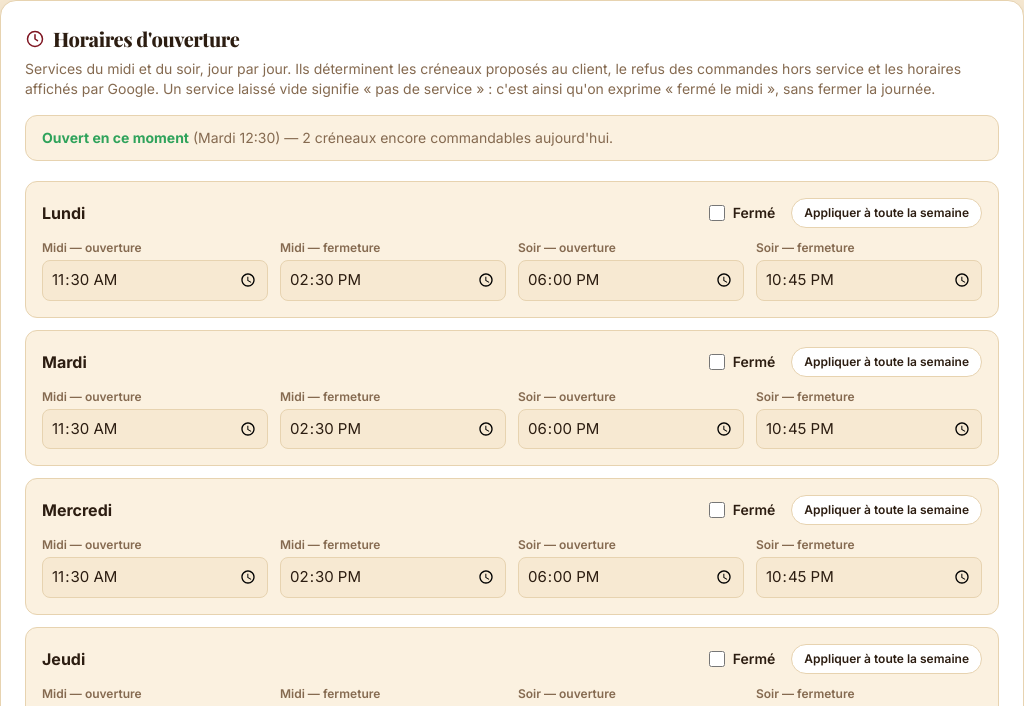
Test: une fermeture placée avant son ouverture › refuse aussi deux heures identiques — un service de durée nulle
Expected: the text "Lundi" is shown, [42, 201, 85, 225]
Replace the text in the 3rd time field labelled "Soir — ouverture" with "19:00" at (631, 577), box [518, 557, 744, 598]
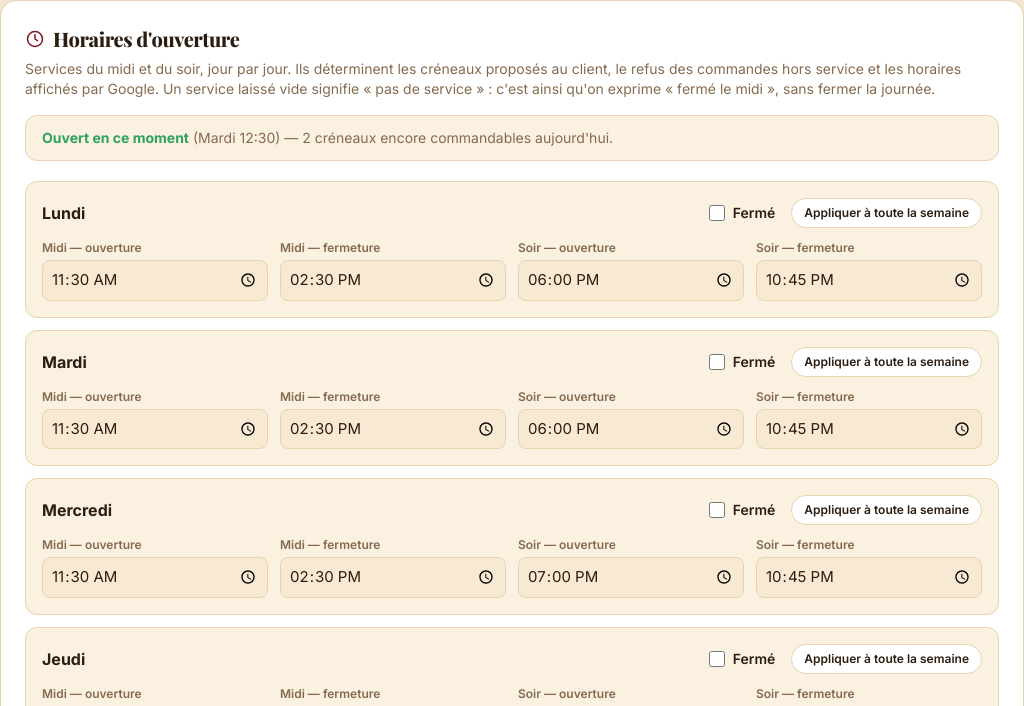
Replace the text in the 3rd time field labelled "Soir — fermeture" with "19:00" at (869, 577), box [756, 557, 982, 598]
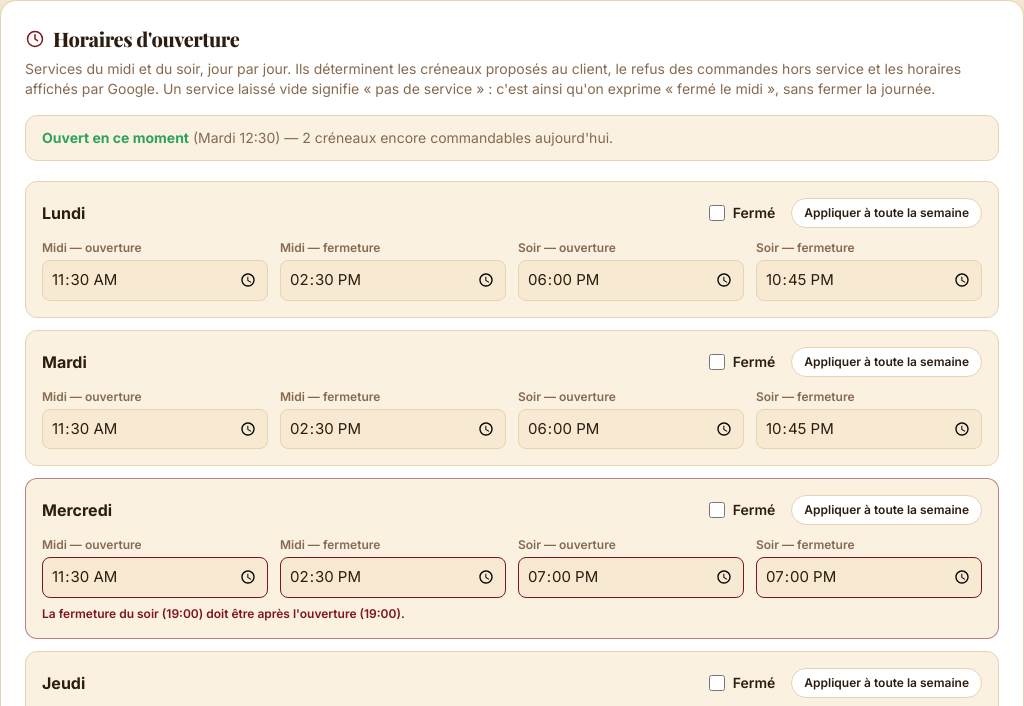
Expected: the text "La fermeture du soir (19:00) doit être après l'ouverture (19:00)." is shown, [42, 606, 405, 620]
